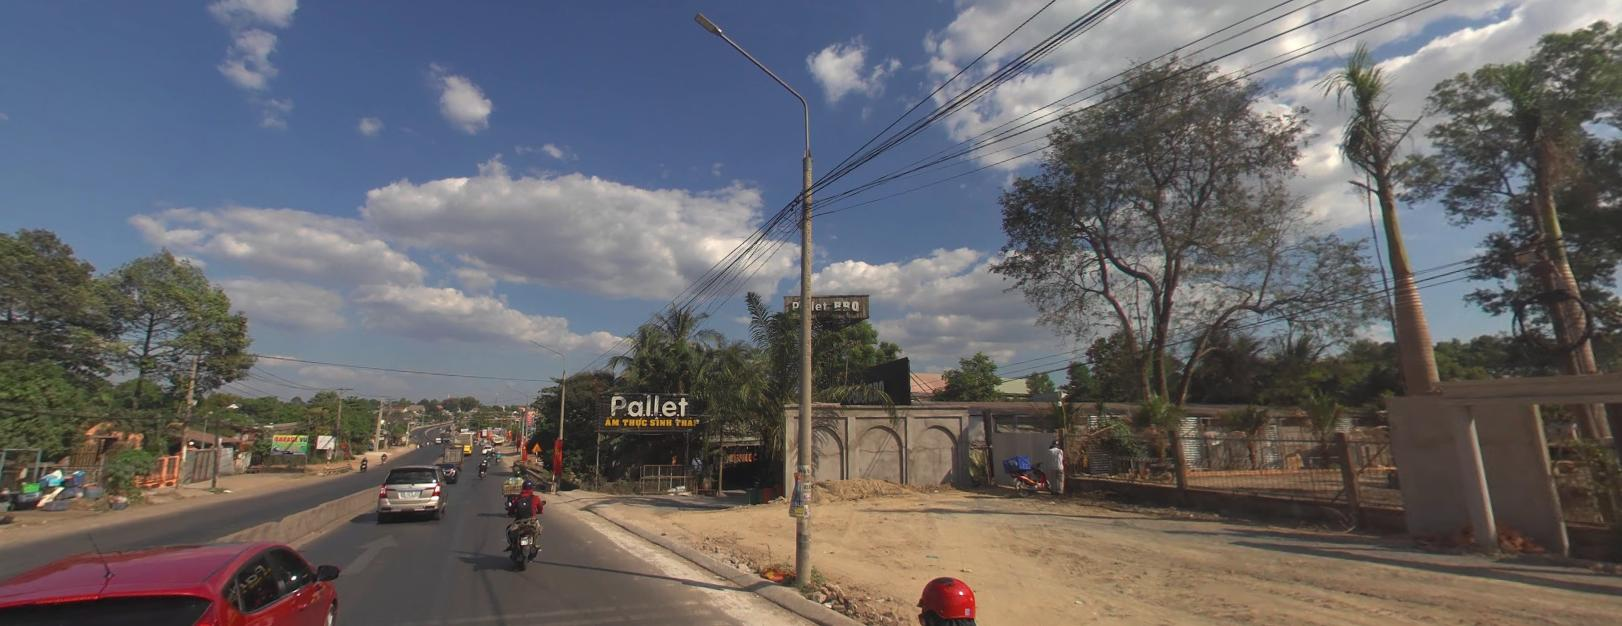Nguy hiem: (530, 440, 542, 451)
